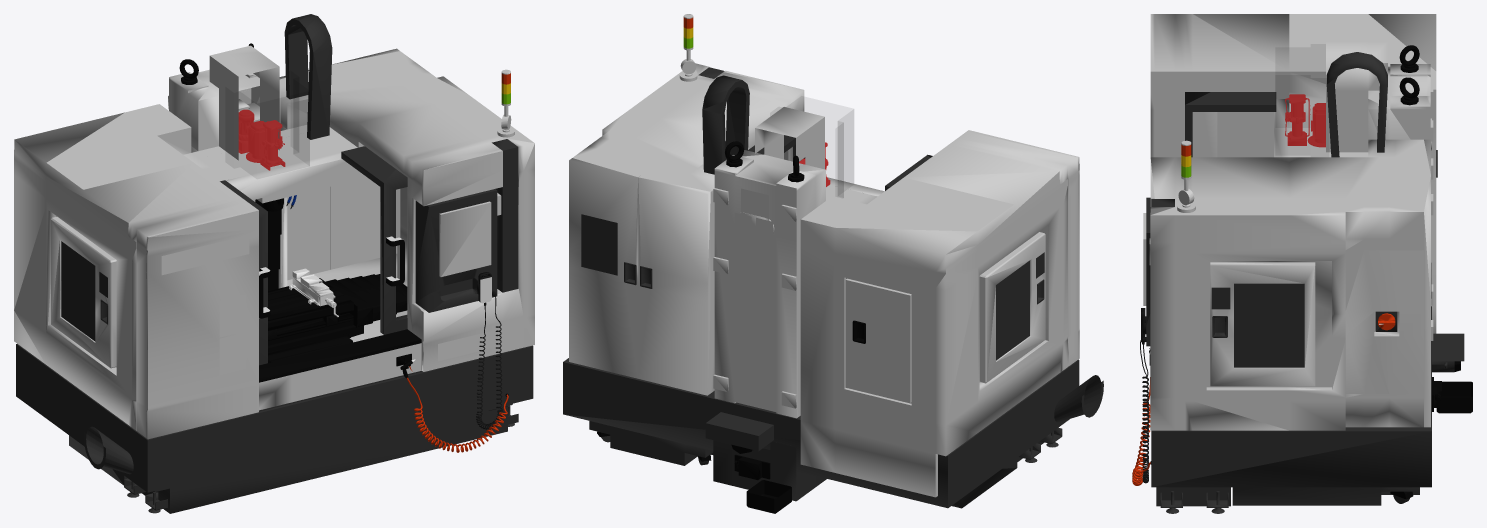
File: 机床（电机异常）.fbx
The picture shows the model from 3 angles, left to right: view 1: azimuth 30°, elevation 25°; view 2: azimuth 150°, elevation 25°; view 3: azimuth 270°, elevation 25°; orthographic projection. The views are drawn at different scales.
Parts seen in each view (by area): view 1: polySurface557, 立方体, polySurface544, polySurface83, polySurface37, pCube9, polySurface6, polySurface519, polySurface38, polySurface14, polySurface62, polySurface26 (+14 smaller); view 2: polySurface557, 立方体, polySurface38, polySurface37, polySurface544, pCube9, polySurface91, polySurface26, pCube18, pCube24, pCube21, polySurface538 (+1 smaller); view 3: polySurface557, 立方体, polySurface32, polySurface544, pCube9, polySurface5, polySurface37, pCube24, polySurface83, pCube21, polySurface537, polySurface519 (+5 smaller).
Boxes of the visible parts, <box> form: polySurface557: <box>14,45,534,439</box>; 立方体: <box>16,344,533,492</box>; polySurface544: <box>69,371,518,513</box>; polySurface83: <box>100,139,518,324</box>; polySurface37: <box>330,48,400,269</box>; pCube9: <box>284,14,332,139</box>; polySurface6: <box>341,146,407,334</box>; polySurface519: <box>226,152,365,203</box>; polySurface38: <box>279,70,330,280</box>; polySurface14: <box>439,201,491,276</box>; polySurface62: <box>259,329,421,382</box>; polySurface26: <box>61,241,95,341</box>; polySurface557: <box>573,63,1079,497</box>; 立方体: <box>563,358,1079,508</box>; polySurface38: <box>638,175,710,395</box>; polySurface37: <box>569,158,640,378</box>; polySurface544: <box>589,375,1103,508</box>; pCube9: <box>702,75,749,174</box>; polySurface91: <box>734,188,772,406</box>; polySurface26: <box>996,260,1029,360</box>; pCube18: <box>581,214,617,275</box>; pCube24: <box>835,109,853,197</box>; pCube21: <box>746,480,791,513</box>; polySurface538: <box>734,454,770,480</box>; polySurface557: <box>1150,14,1436,430</box>; 立方体: <box>1151,306,1431,487</box>; polySurface32: <box>1234,283,1304,367</box>; polySurface544: <box>1156,333,1464,507</box>; pCube9: <box>1326,52,1387,157</box>; polySurface5: <box>1185,92,1276,157</box>; polySurface37: <box>1424,175,1430,427</box>; pCube24: <box>1276,75,1325,127</box>; polySurface83: <box>1146,197,1227,346</box>; pCube21: <box>1436,381,1472,413</box>; polySurface537: <box>1140,308,1149,483</box>; polySurface519: <box>1274,99,1289,157</box>.
Size of the model in its own units: 27.98 by 23.56 by 18.37.
